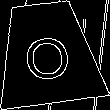O_N: (21, 25, 74, 81)
